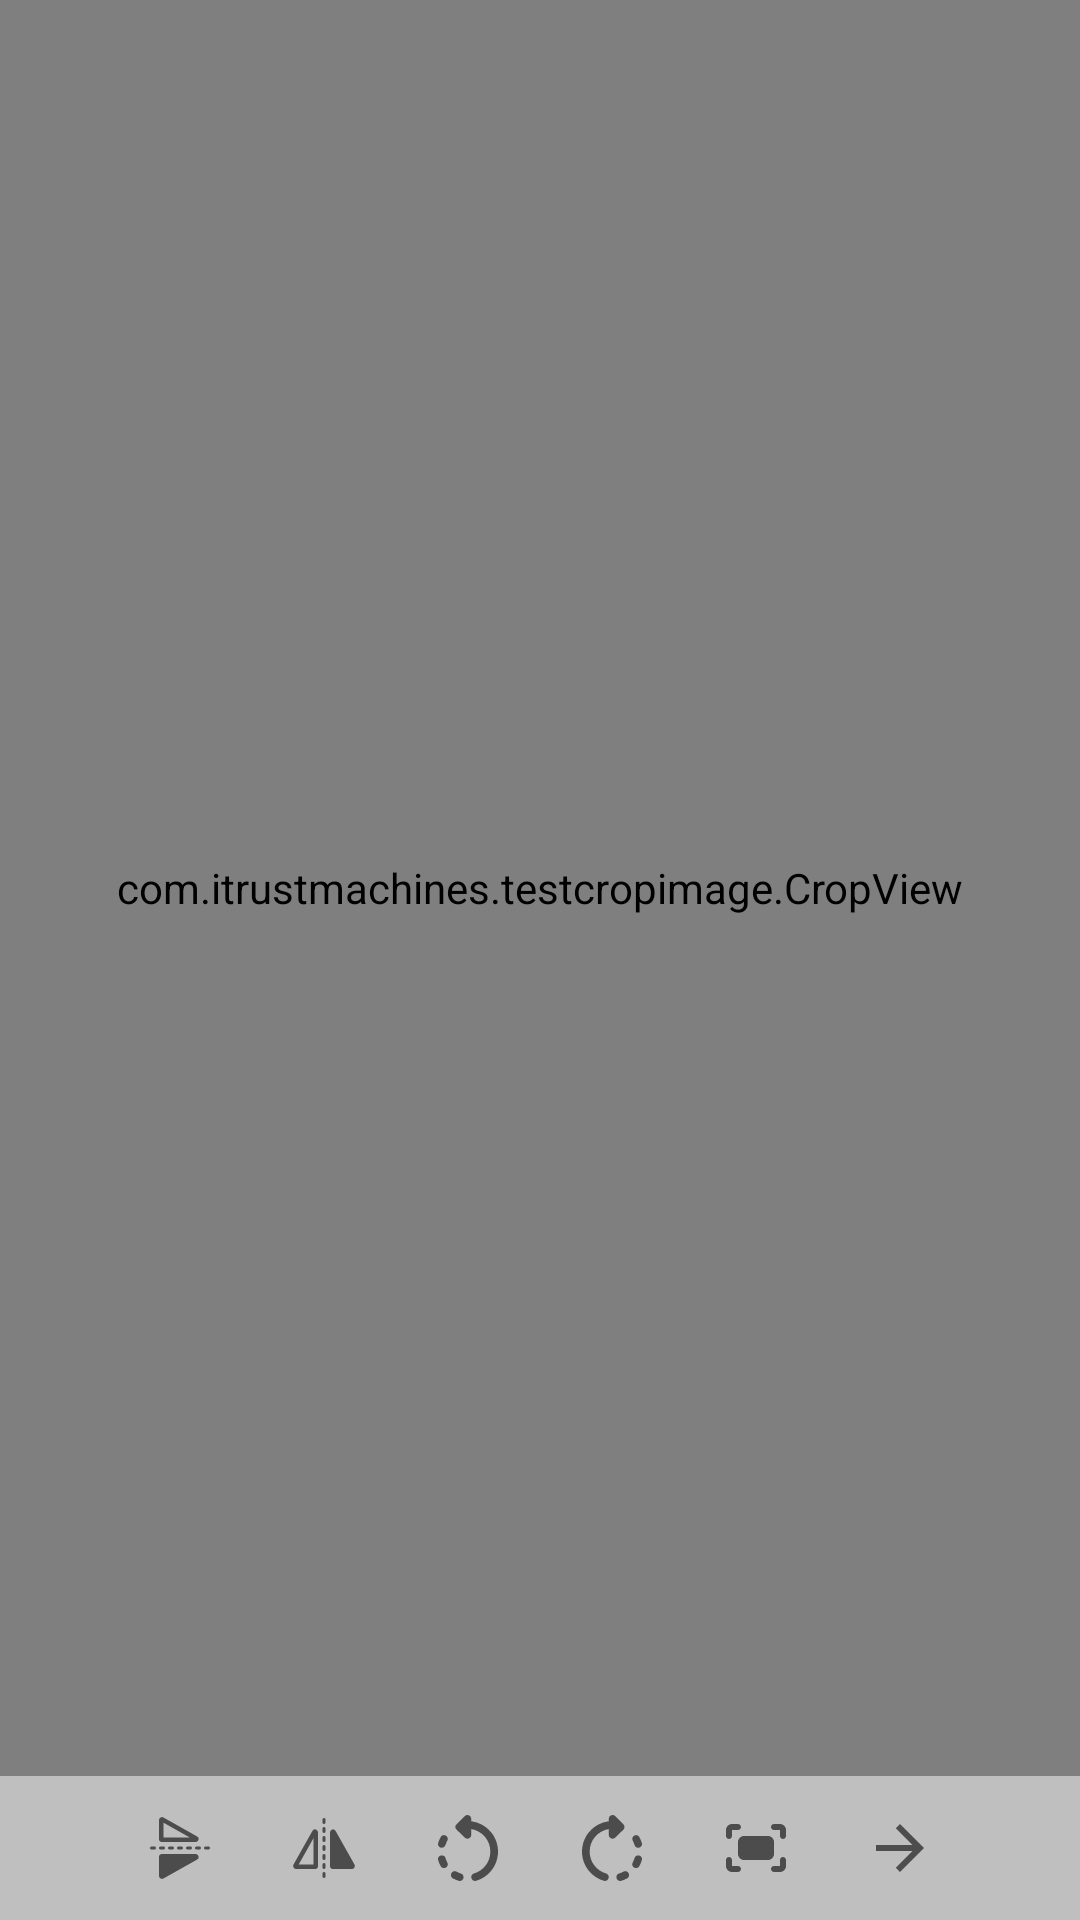

Named icons in this screenshot (1080 × 1920) and their centers, [x,y]:
flip: [180,1848], [324,1848]
full screen: [756,1848]
right arrow: [900,1848]
rotate left: [468,1848]
rotate right: [612,1848]
